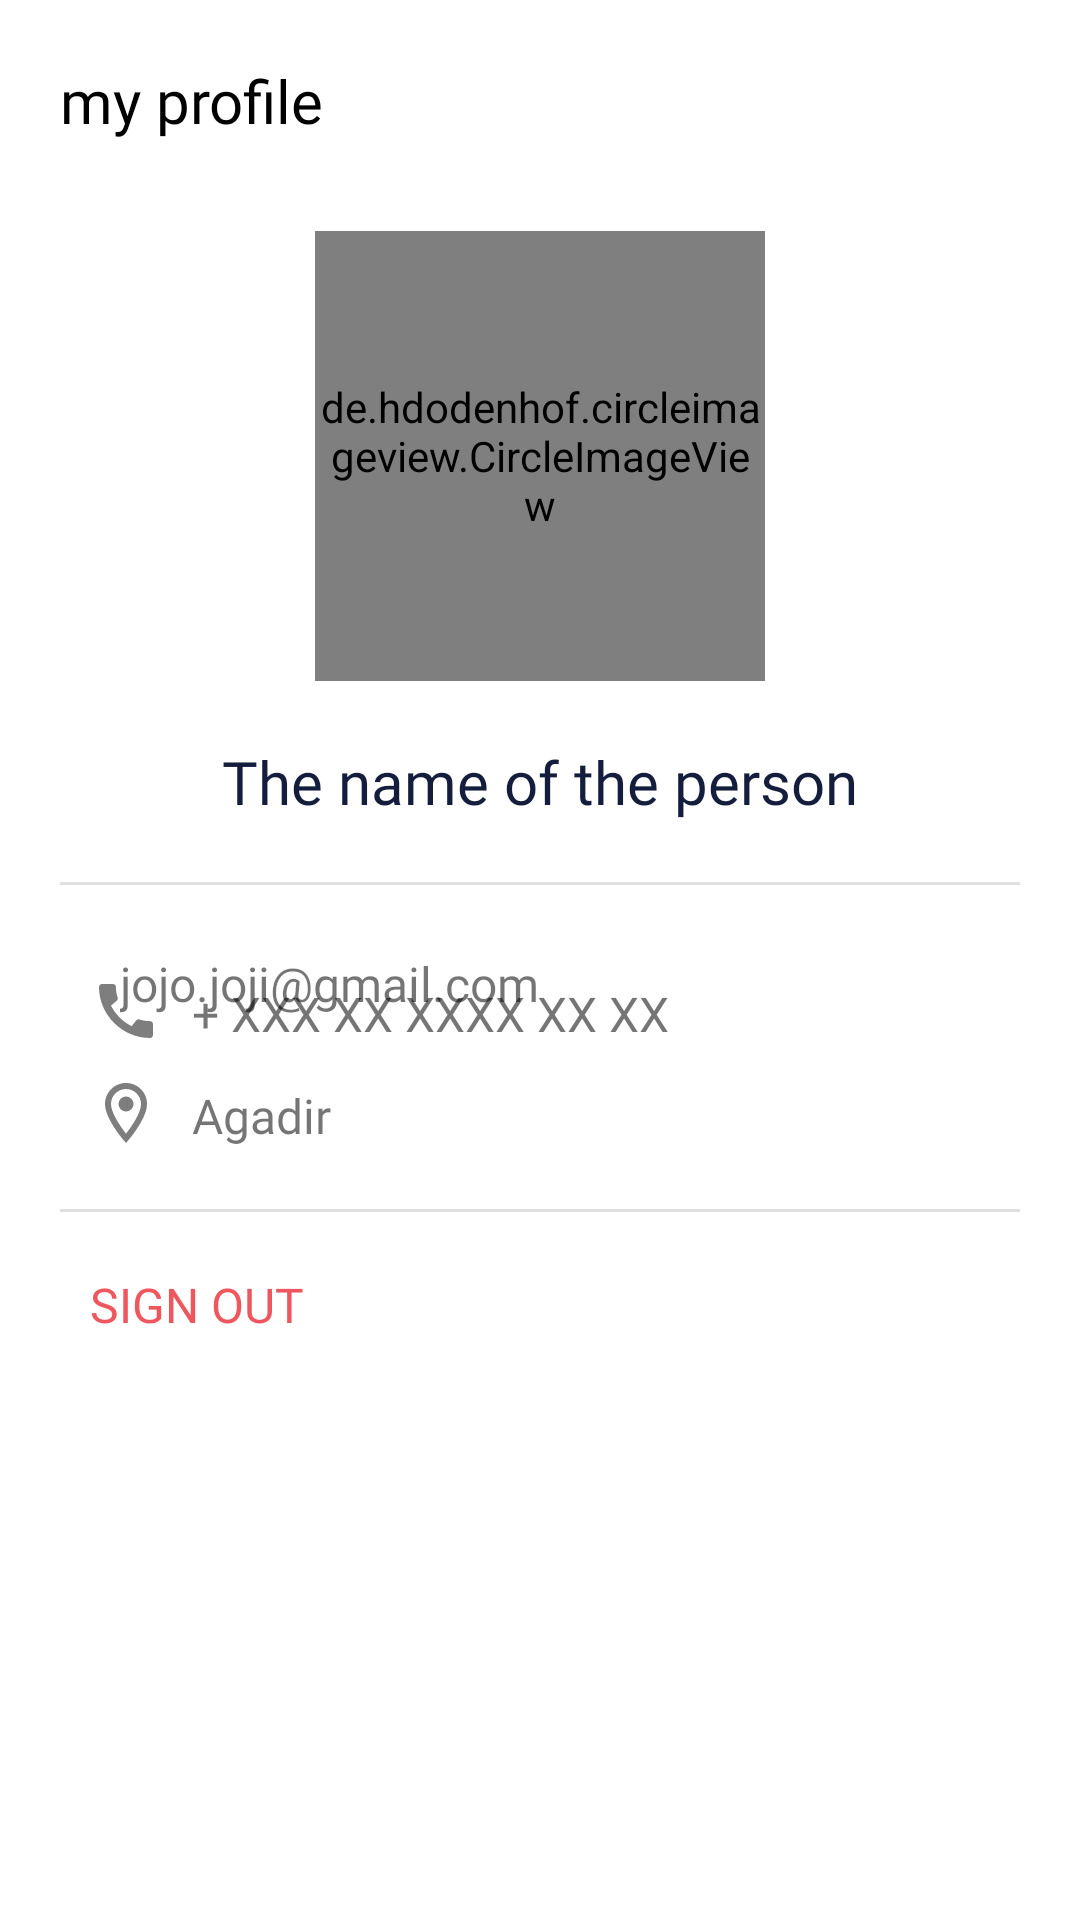

Locate icon controls on the screen. Image size 1080 × 1920, boxes as rect(x1, y1, x2, y2).
call: rect(99, 976, 162, 1038)
location on: rect(105, 1083, 147, 1143)
